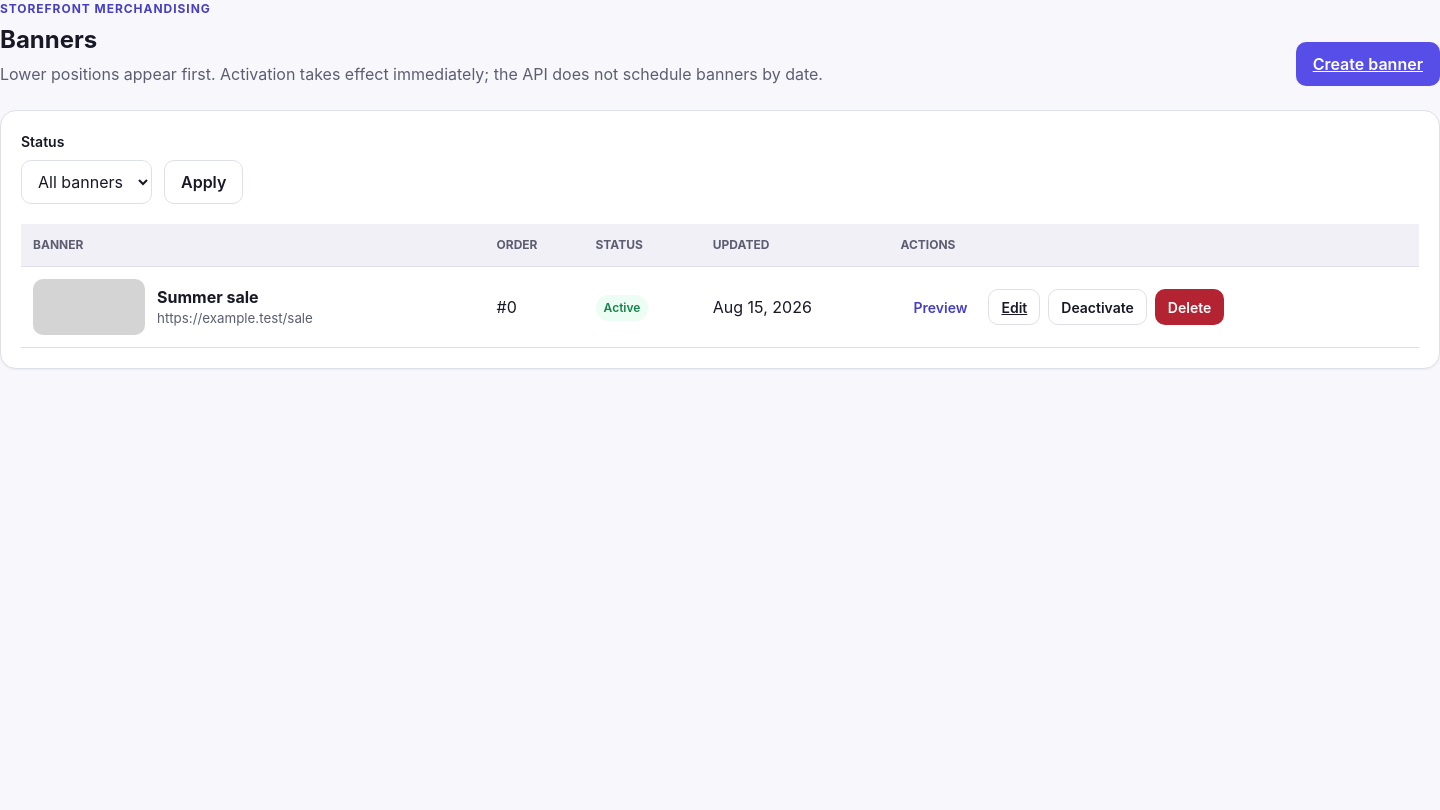
admin banner management › renders ordered metadata and a storefront preview
This screenshot has width=1440, height=810.
Expected: the text "#0" is shown, [484,266,584,348]
Expected: the text "Active" is shown, [596,294,648,320]
Click the button "Preview" at (940, 307), box [900,289,980,325]
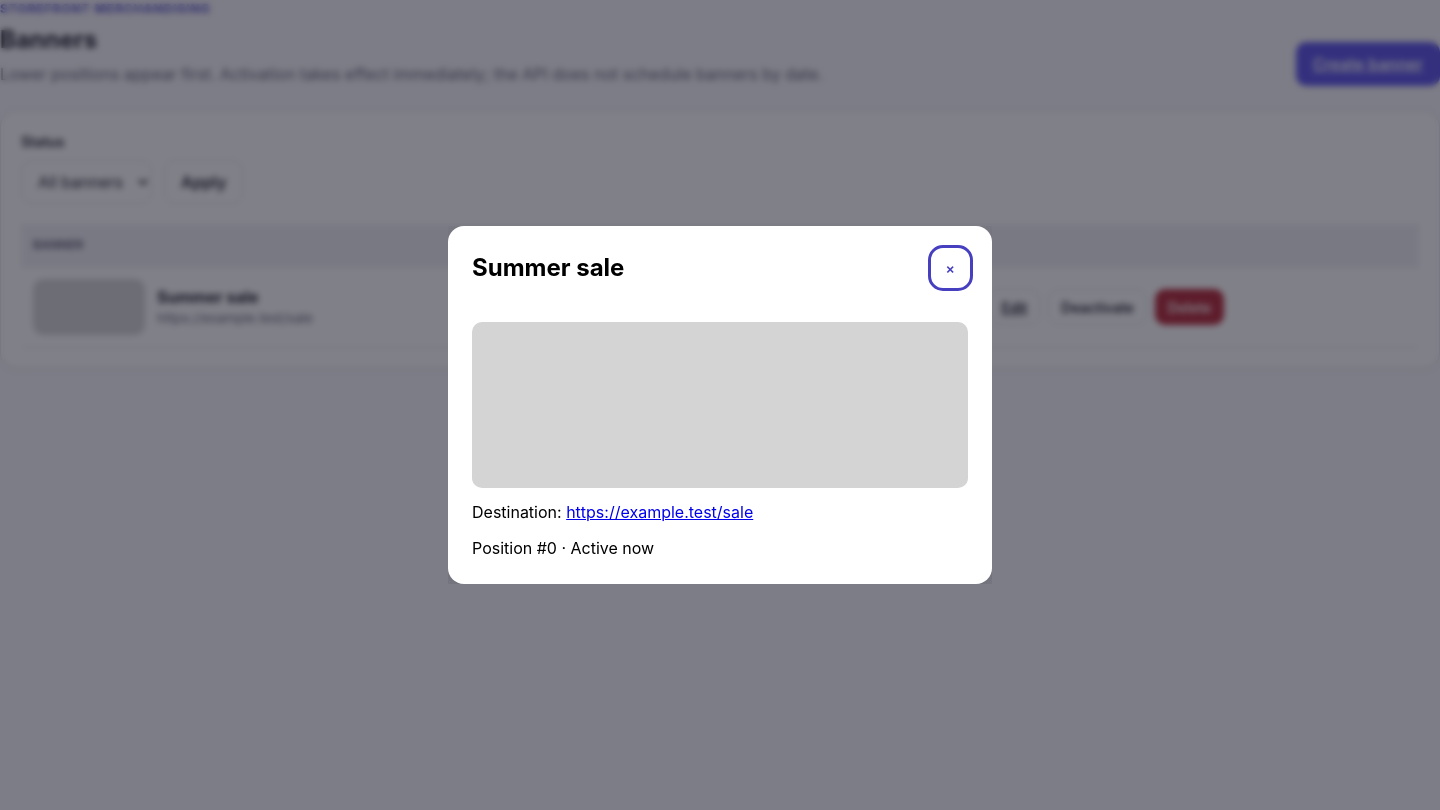
Result: the text "Position #0 · Active now" is shown at [472,538,654,558]
